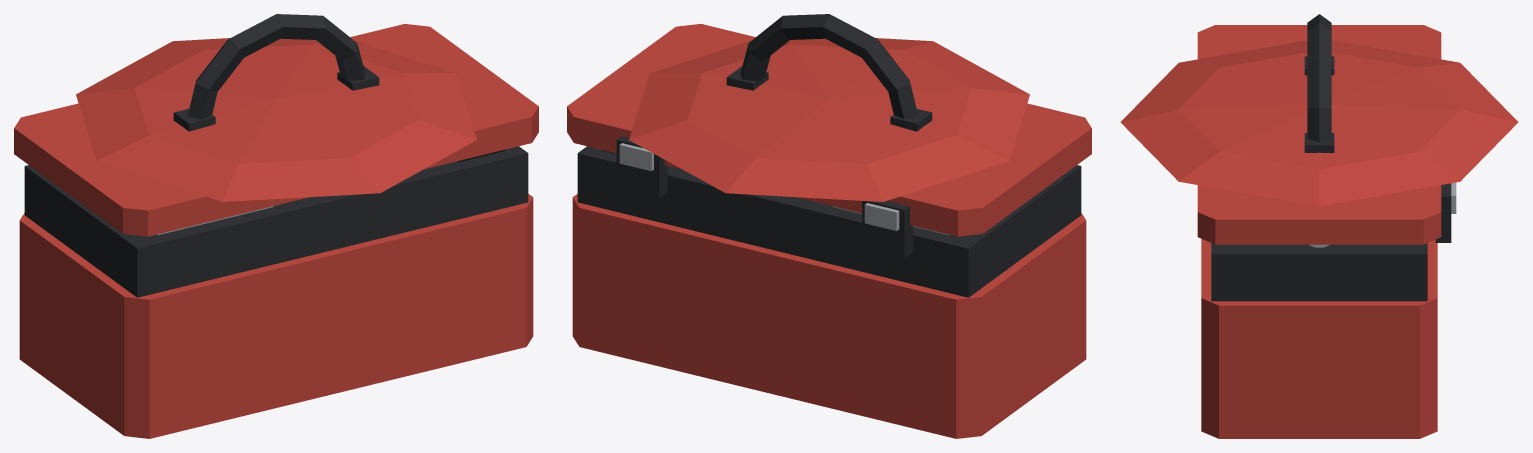
Rendered from SM_LPI_Util_Toolbox_01.fbx.
The picture shows the model from 3 angles, left to right: view 1: azimuth 30°, elevation 25°; view 2: azimuth 150°, elevation 25°; view 3: azimuth 270°, elevation 25°; orthographic projection. The views are drawn at different scales.
Parts seen in each view (by area): view 1: SM_LPI_Util_Toolbox_01; view 2: SM_LPI_Util_Toolbox_01; view 3: SM_LPI_Util_Toolbox_01.
Part boxes in pixels (bbox=[...]): SM_LPI_Util_Toolbox_01: bbox=[14, 14, 538, 438]; SM_LPI_Util_Toolbox_01: bbox=[567, 14, 1091, 438]; SM_LPI_Util_Toolbox_01: bbox=[1120, 14, 1518, 438].
Size of the model in its own units: 0.468 by 0.359 by 0.4048.
